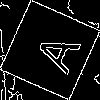A: (25, 24, 82, 76)
